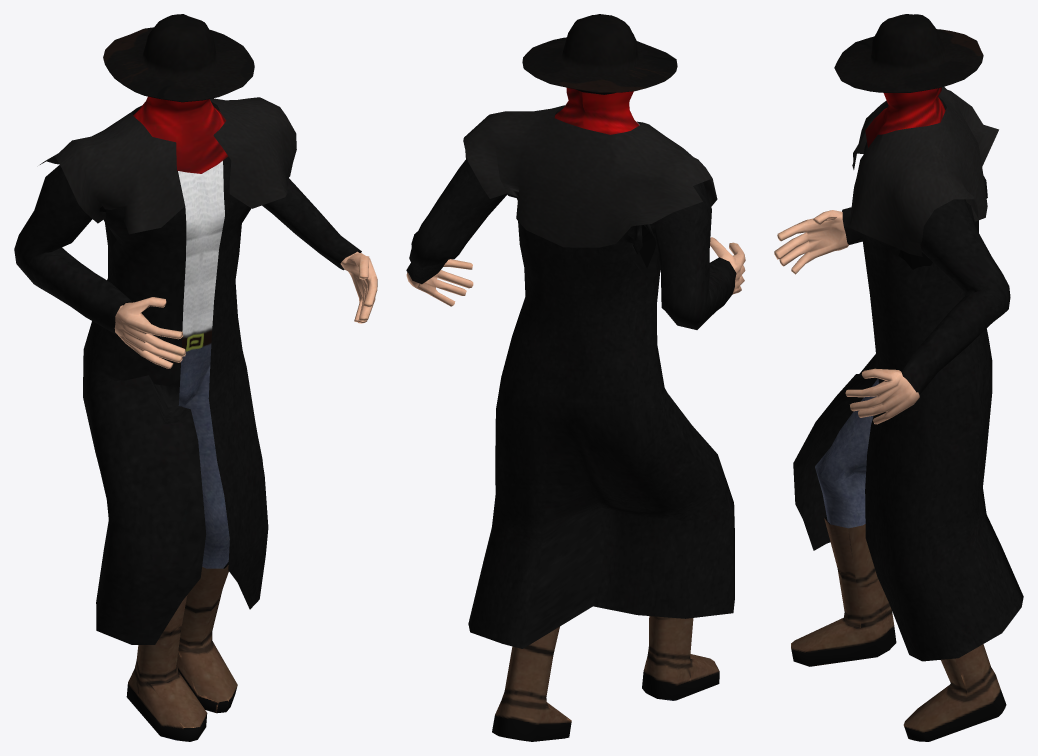
The model's file is U_Suck_1.obj.
3 views of the same model, side by side, from view 1: azimuth 30°, elevation 25°; view 2: azimuth 150°, elevation 25°; view 3: azimuth 270°, elevation 25° (orthographic). The views are drawn at different scales.
Visible parts, largest first — view 1: Undertaker_4:Undertaker_4:Undertaker; view 2: Undertaker_4:Undertaker_4:Undertaker; view 3: Undertaker_4:Undertaker_4:Undertaker.
Boxes of the visible parts, left/top/right/bottom form: Undertaker_4:Undertaker_4:Undertaker: left=14, top=14, right=377, bottom=741; Undertaker_4:Undertaker_4:Undertaker: left=406, top=14, right=745, bottom=741; Undertaker_4:Undertaker_4:Undertaker: left=774, top=14, right=1023, bottom=741.
Size of the model in its own units: 1.38 by 2.93 by 0.9484.
Materials: 1 (1 with a texture image).
